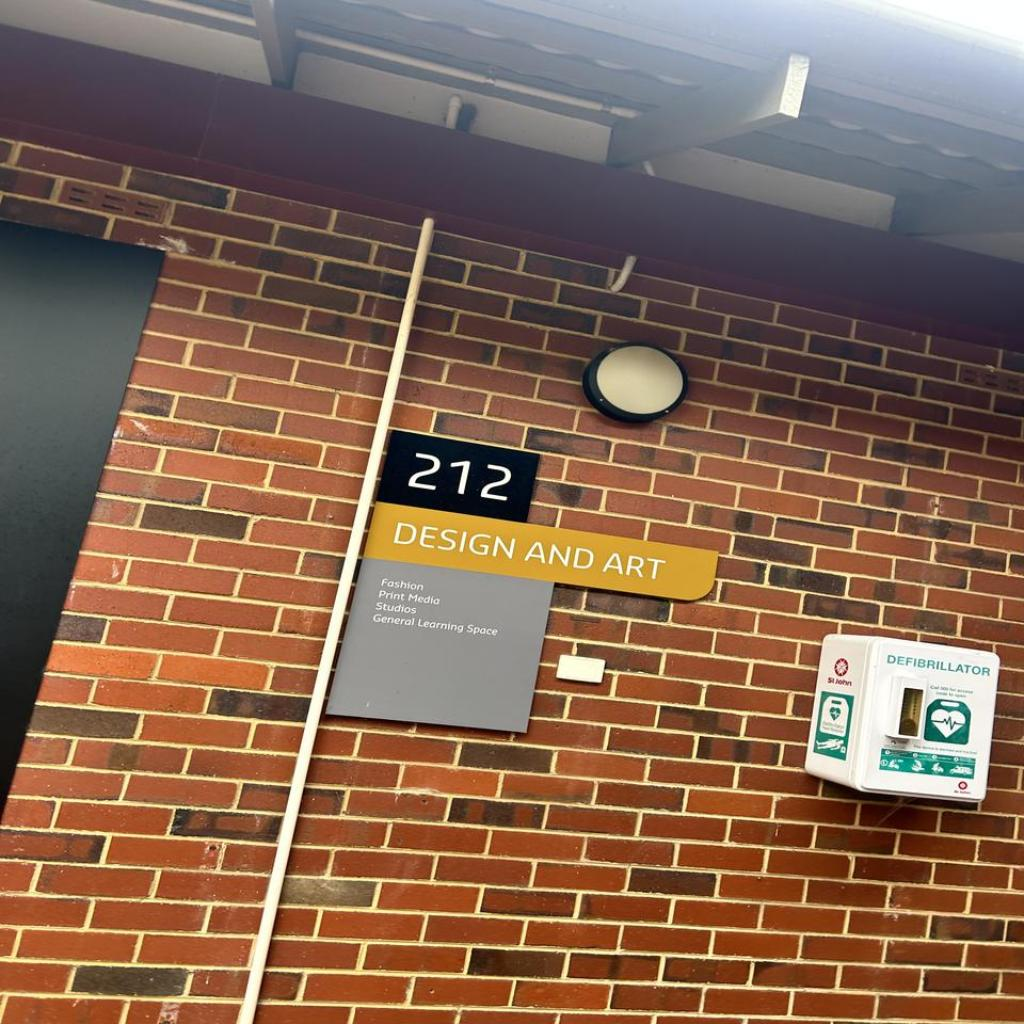BuildingCodes: (406, 448, 514, 504)
